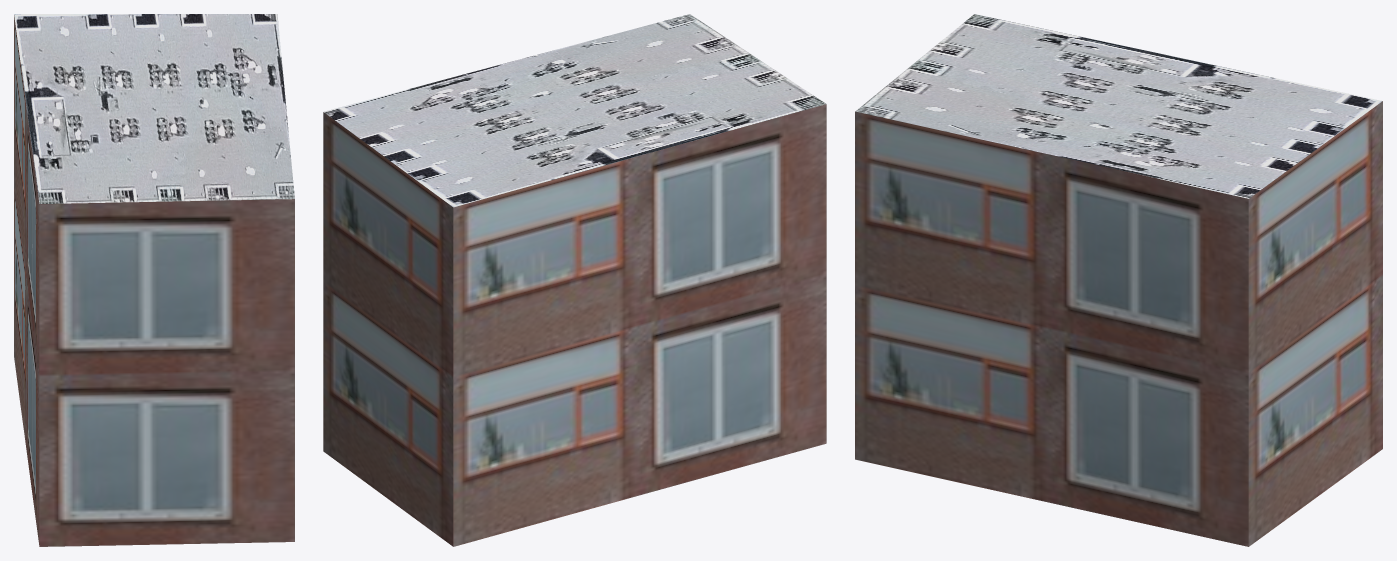
Rendered from ResTex__4049.fbx.
3 renders of one model, left to right at view 1: azimuth 30°, elevation 25°; view 2: azimuth 150°, elevation 25°; view 3: azimuth 270°, elevation 25°, orthographic. The views are drawn at different scales.
Visible parts, largest first — view 1: CityEngineMaterial_19_m, CityEngineMaterial_15_m; view 2: CityEngineMaterial_19_m, CityEngineMaterial_15_m; view 3: CityEngineMaterial_19_m, CityEngineMaterial_15_m.
Boxes of the visible parts, x1,y1,x2,y2 form: CityEngineMaterial_19_m: [14, 15, 294, 546]; CityEngineMaterial_15_m: [14, 14, 294, 203]; CityEngineMaterial_19_m: [323, 104, 826, 546]; CityEngineMaterial_15_m: [324, 14, 826, 207]; CityEngineMaterial_19_m: [855, 101, 1382, 546]; CityEngineMaterial_15_m: [855, 14, 1382, 198].
Size of the model in its own units: 6.83 by 6 by 8.24.
2 materials, 2 textured.
